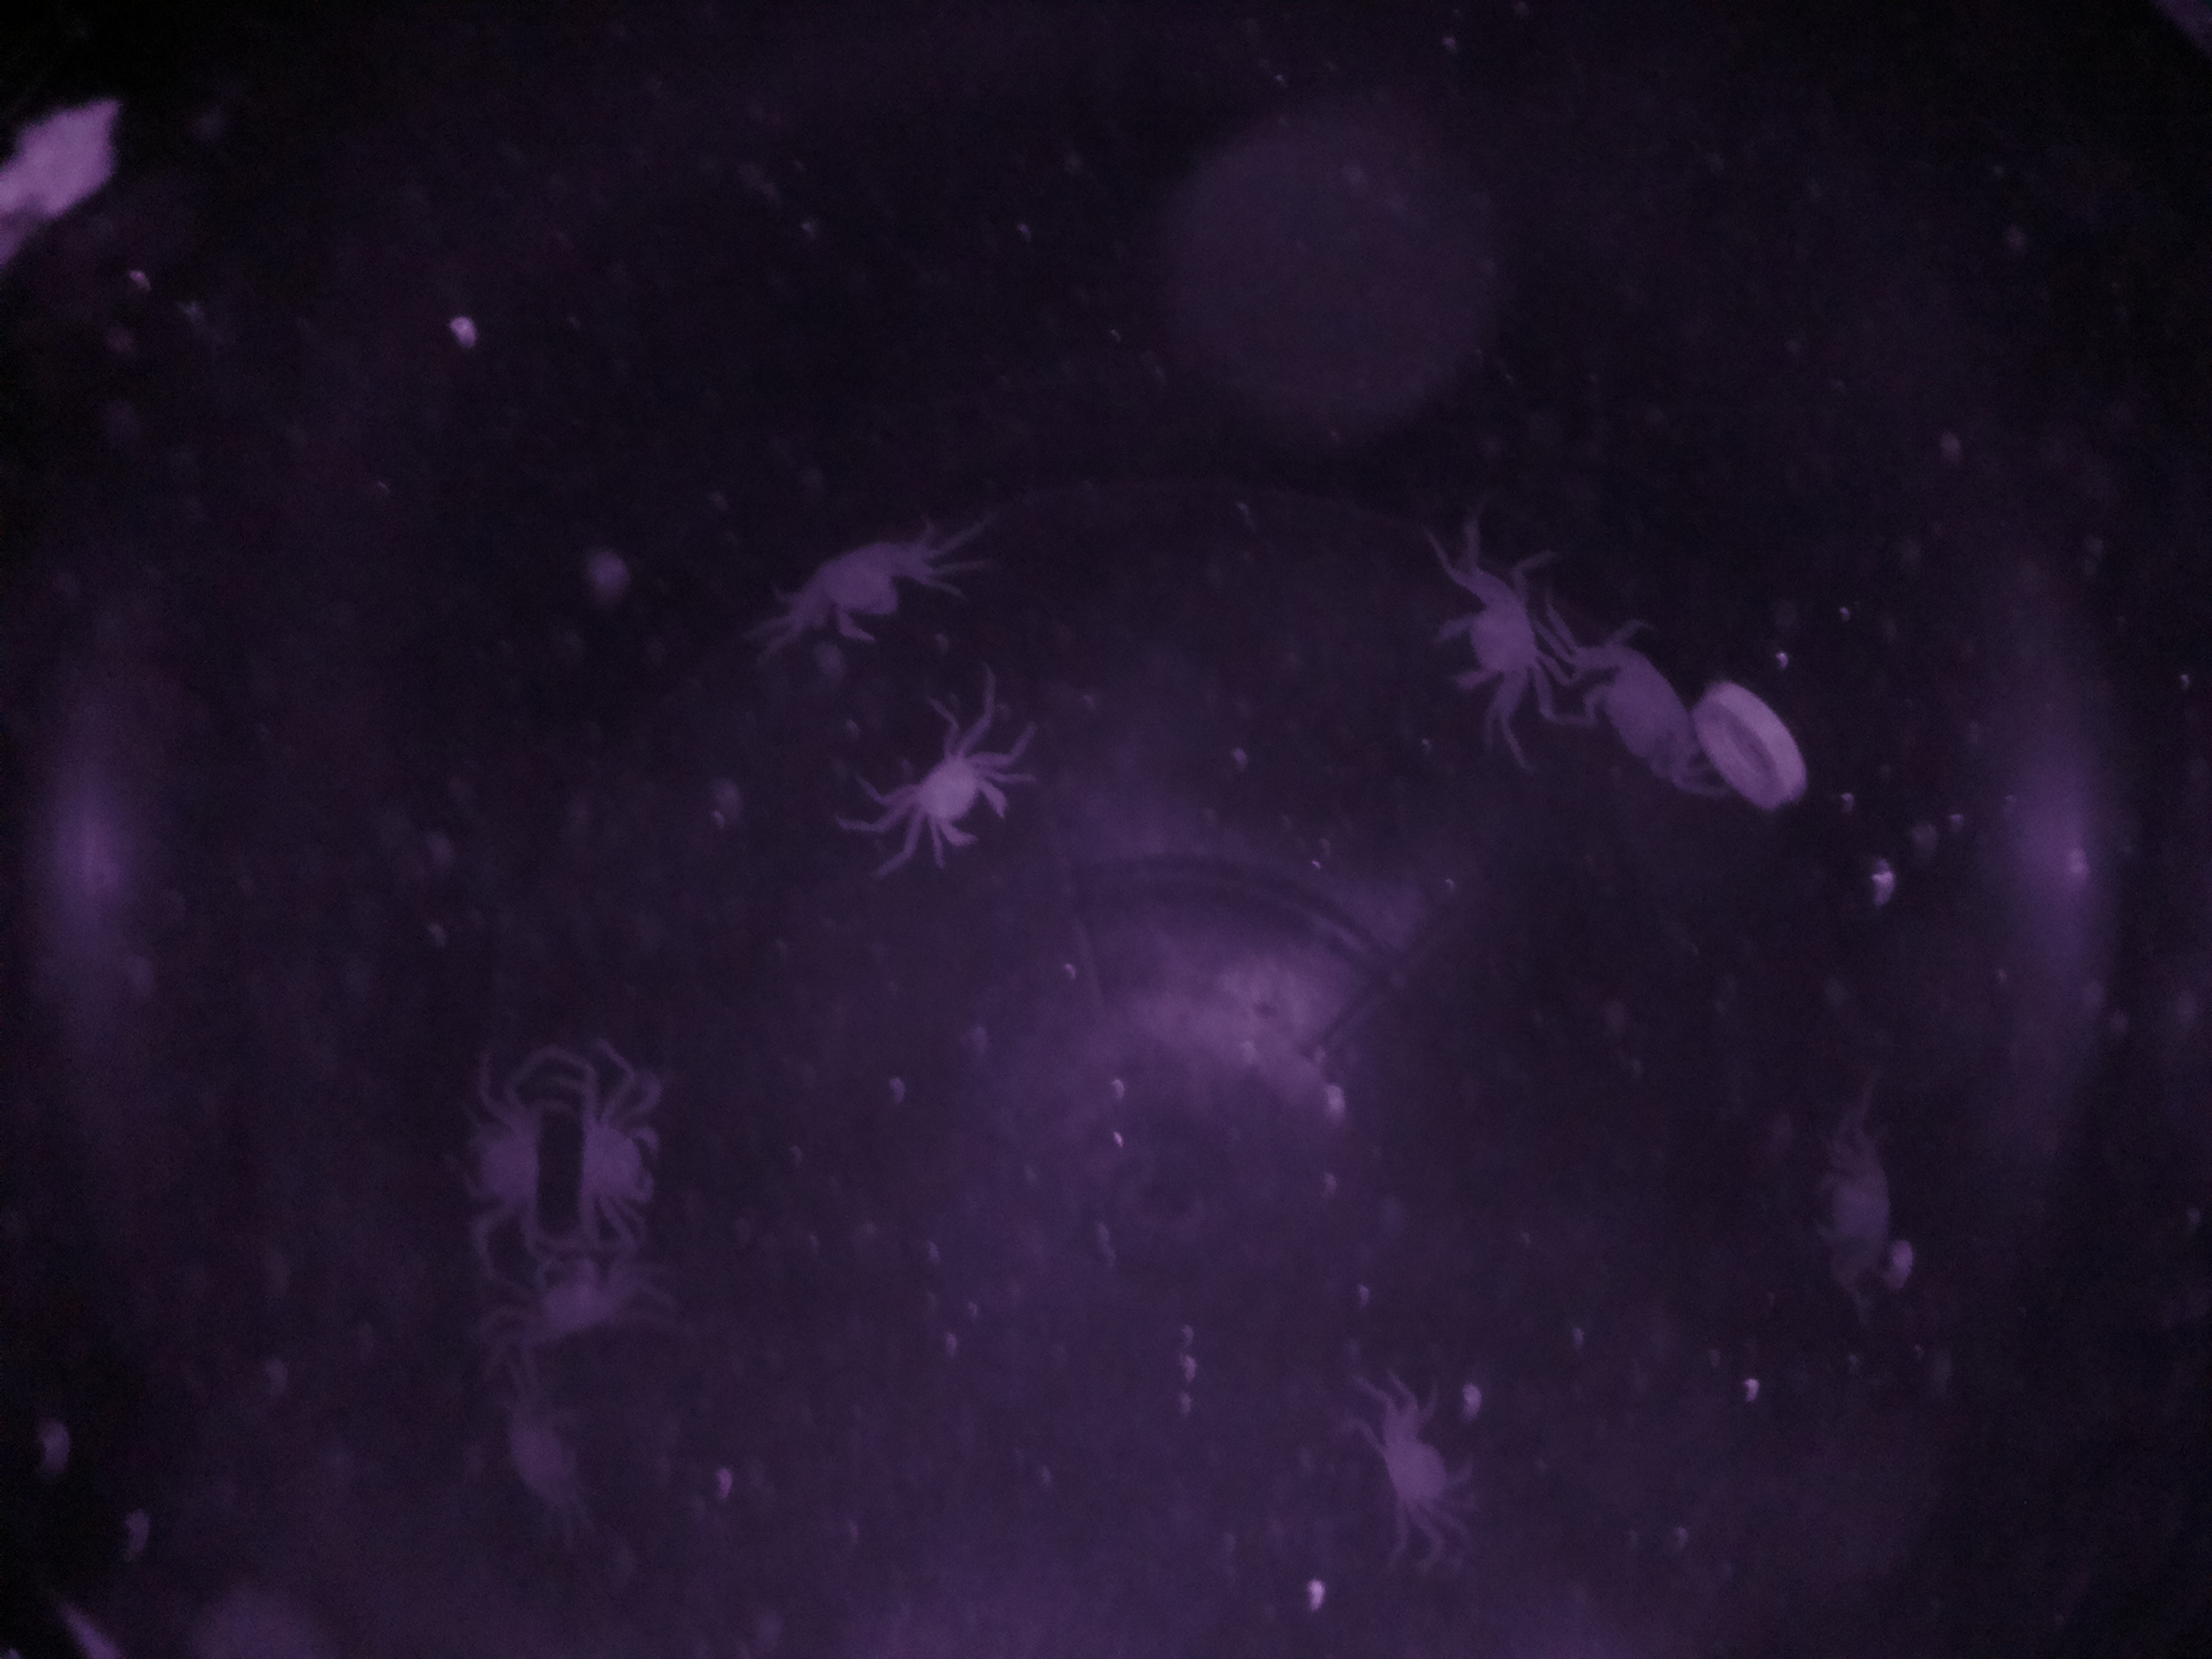Crab: (892, 701, 1033, 854), (1426, 565, 1571, 711), (446, 1075, 556, 1255), (1378, 1371, 1496, 1532), (566, 1082, 672, 1244)
